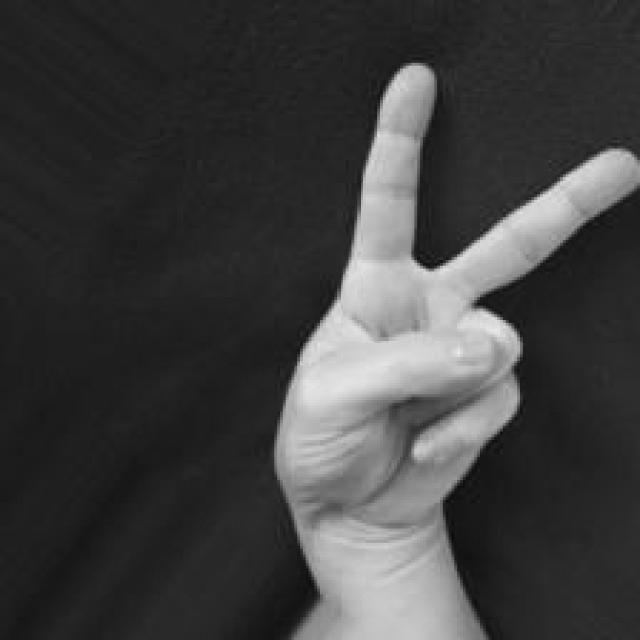V: (271, 60, 640, 529)
